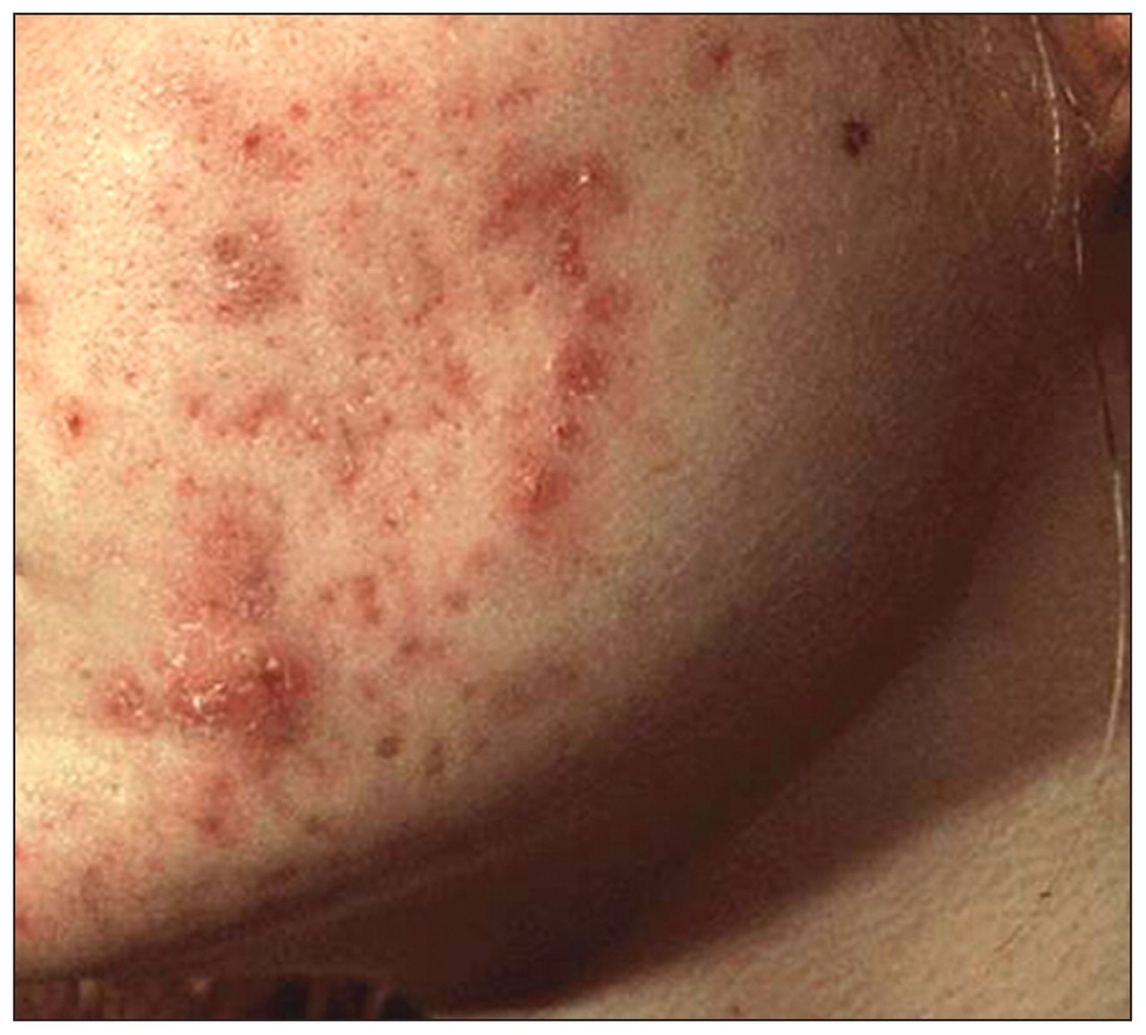Acne: (59, 63, 686, 782)
